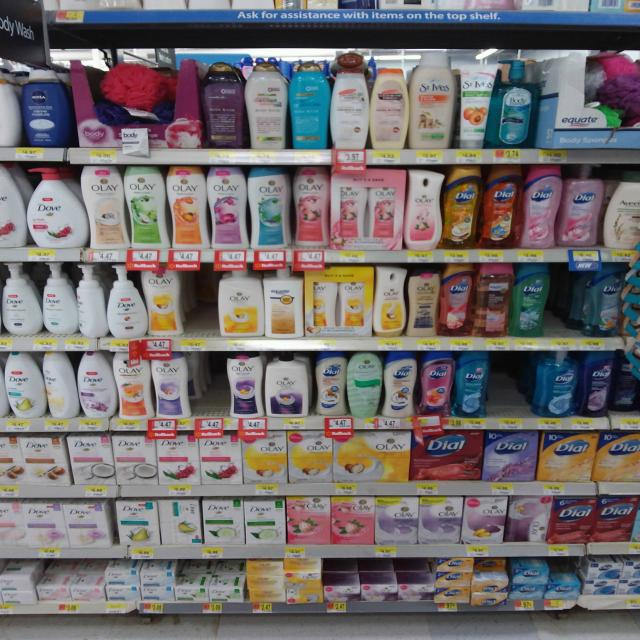unorganised: (88, 61, 181, 130), (72, 266, 107, 341), (40, 353, 77, 419), (507, 495, 551, 543), (614, 351, 640, 418), (476, 559, 506, 580)
